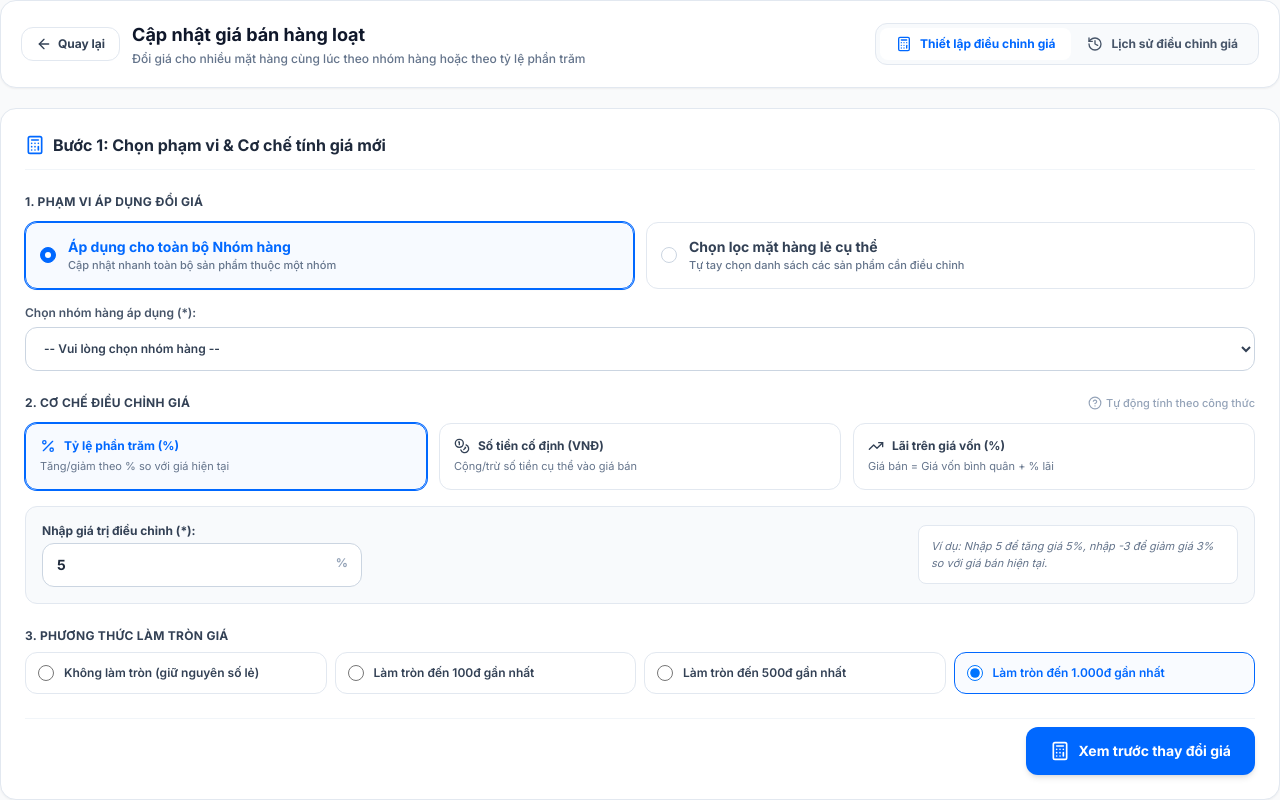
NCL-02-CN-009: PriceAdjustmentPage & Integration Tests › TC-02: Ngoại lệ - Cảnh báo bán lỗ khi giá mới thấp hơn giá vốn (isBelowCost = true)
Note: Chọn nhóm hàng và xem trước
Select "Nước giải khát" in the dropdown: [640, 348] box [25,326,1255,370]
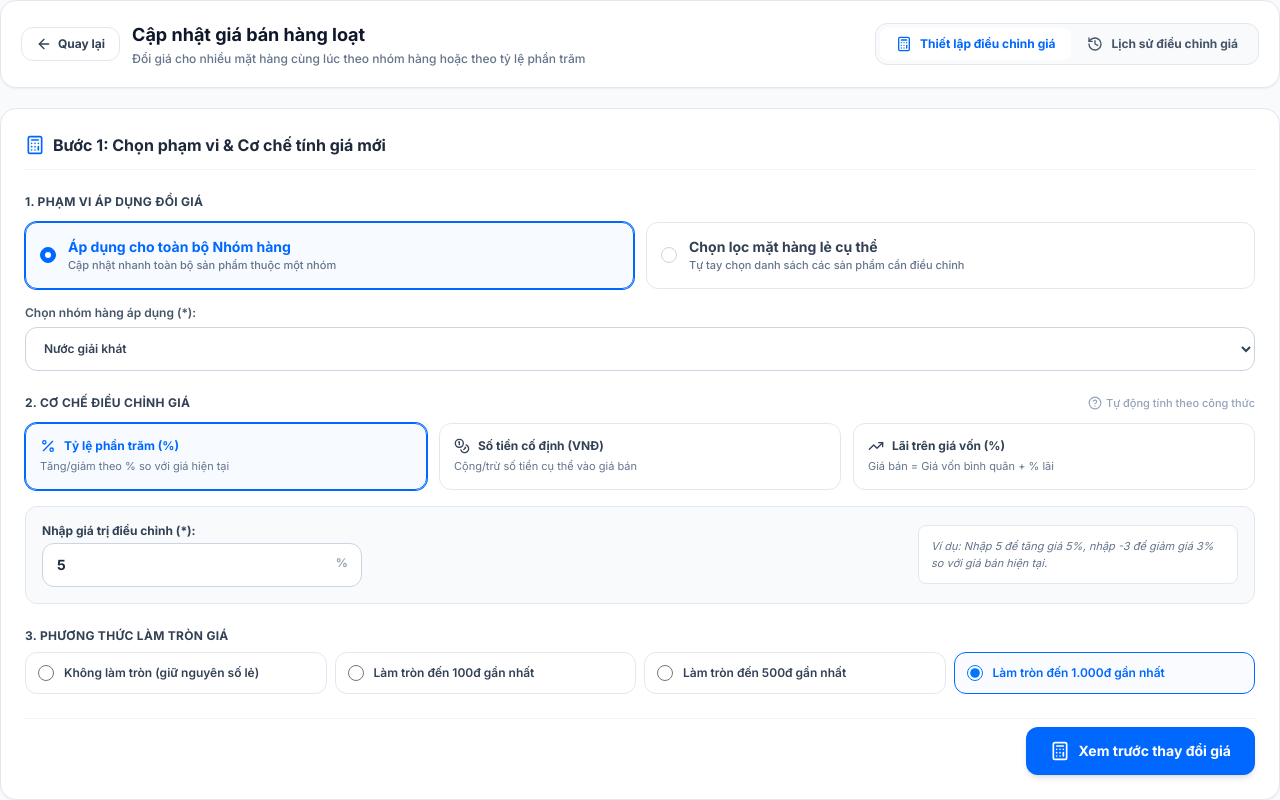
Click the button "Xem trước thay đổi giá": [1141, 750] box [1026,726,1255,774]
(page scrolled)
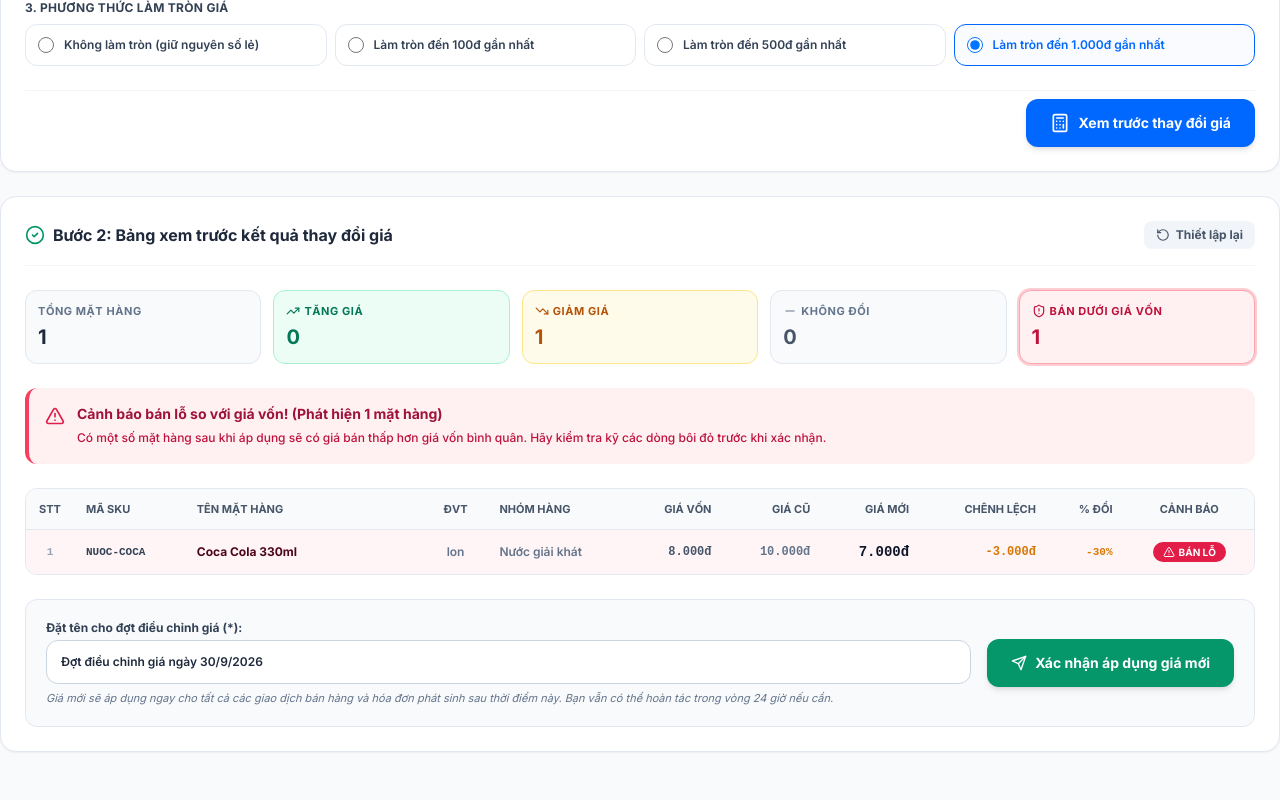
expect the text "Cảnh báo bán lỗ so với giá vốn! (Phát hiện 1 mặt hàng)" is shown: met, box [77,405,443,422]
expect the text "Bán lỗ" is shown: met, box [1152,542,1226,562]
